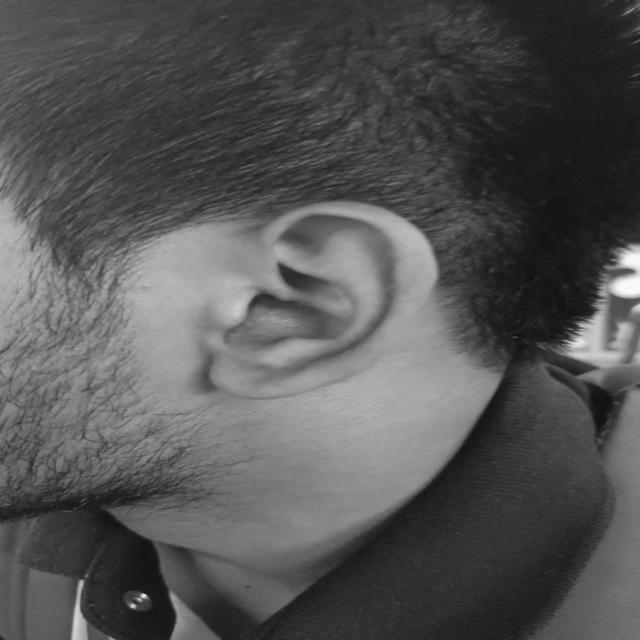ear: (209, 202, 436, 399), (214, 321, 219, 326)
